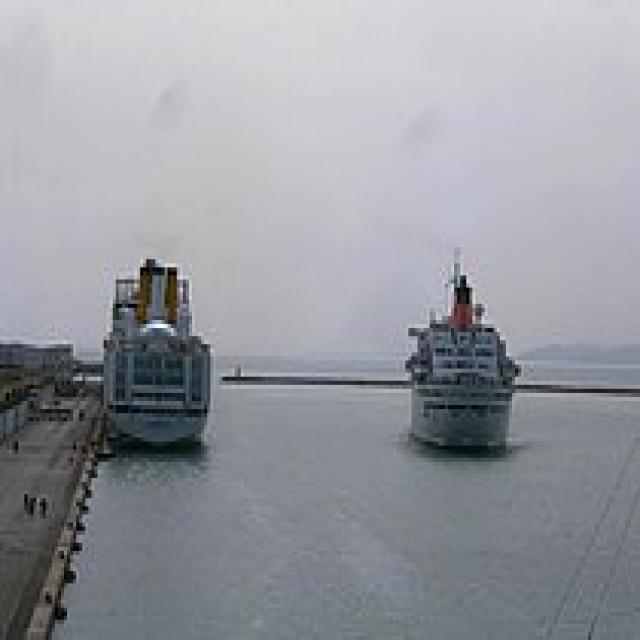Ship: (391, 228, 528, 463), (87, 240, 227, 463)
